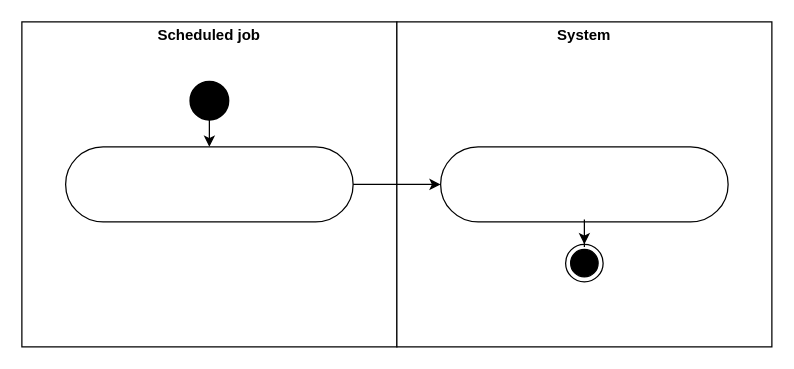
This 794x369 diagram has some shape labels left out. Each missing label, with the centre of its shape:
(1) Run on schedule: pixel 208 184
(2) Move overdue appointments to "noshow", emit the event: pixel 583 184
